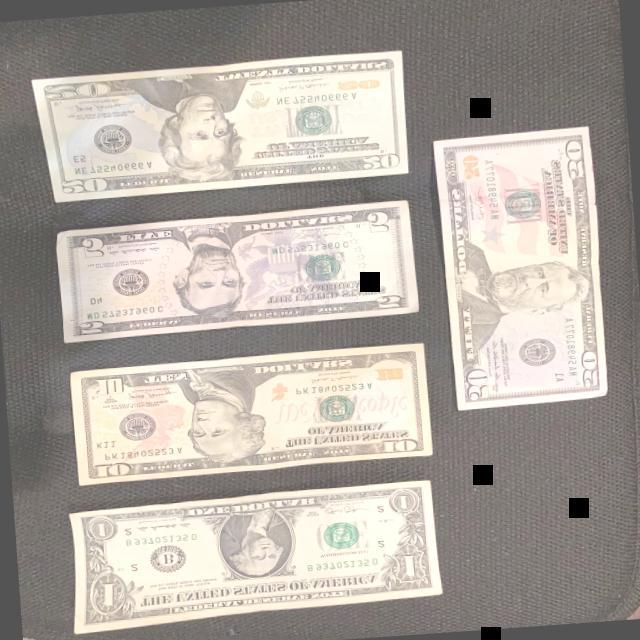fifty: (432, 126, 608, 412)
five: (52, 198, 419, 345)
one: (63, 478, 443, 636)
ten: (68, 340, 432, 488)
twenty: (30, 49, 410, 205)
